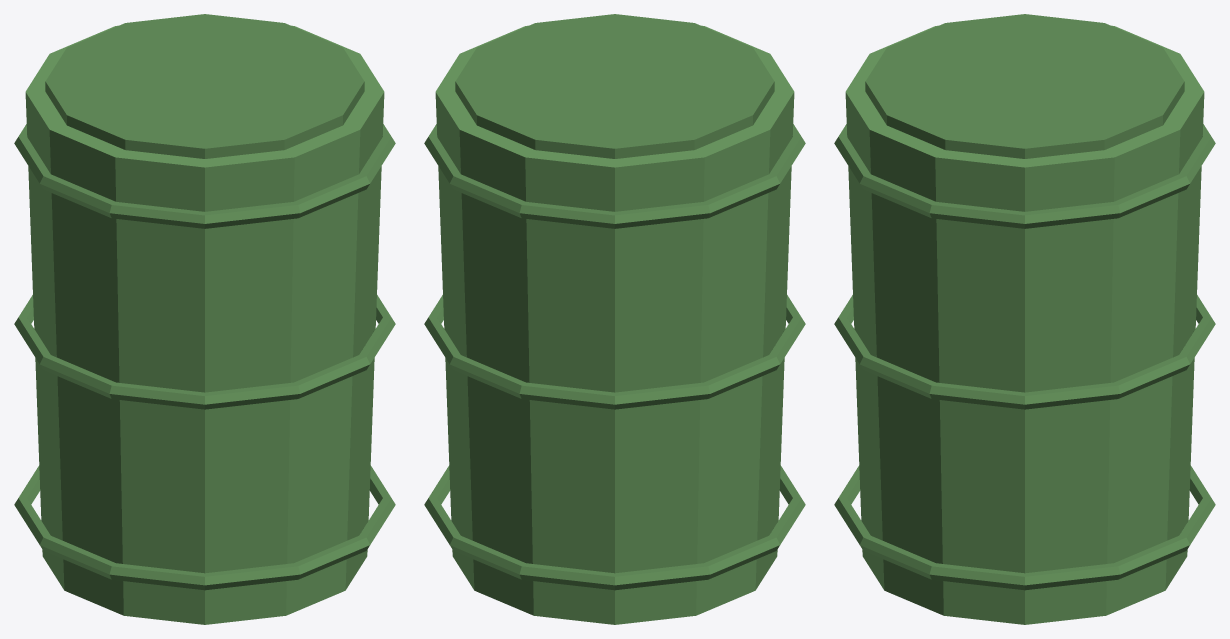
Rendered from barrel_toxic_00.glb.
3 renders of one model, left to right at view 1: azimuth 30°, elevation 25°; view 2: azimuth 150°, elevation 25°; view 3: azimuth 270°, elevation 25°, orthographic.
Visible parts, largest first — view 1: barrel_toxic_00; view 2: barrel_toxic_00; view 3: barrel_toxic_00.
Boxes of the visible parts, <box> form: barrel_toxic_00: <box>14,14,395,624</box>; barrel_toxic_00: <box>424,14,805,624</box>; barrel_toxic_00: <box>834,14,1215,624</box>.
Bounding box in the file's own units: 0.67 × 0.92 × 0.67.
